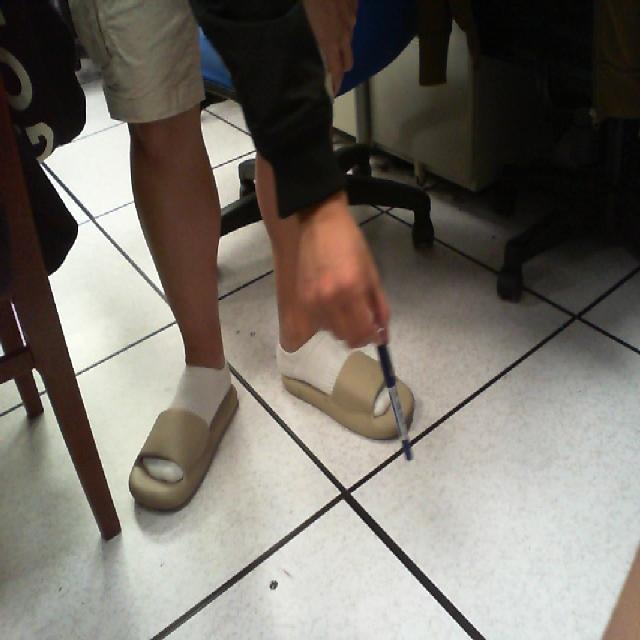Pen: (370, 289, 424, 493)
